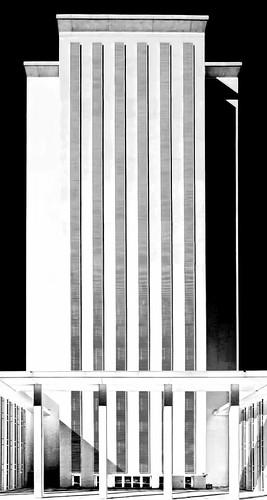building: (8, 11, 247, 500)
